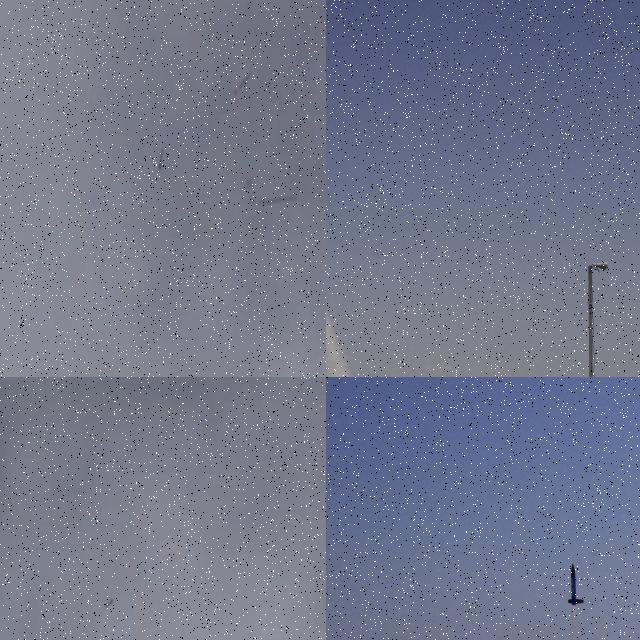Rocket: (568, 563, 584, 606), (157, 146, 165, 172), (104, 596, 115, 608)
